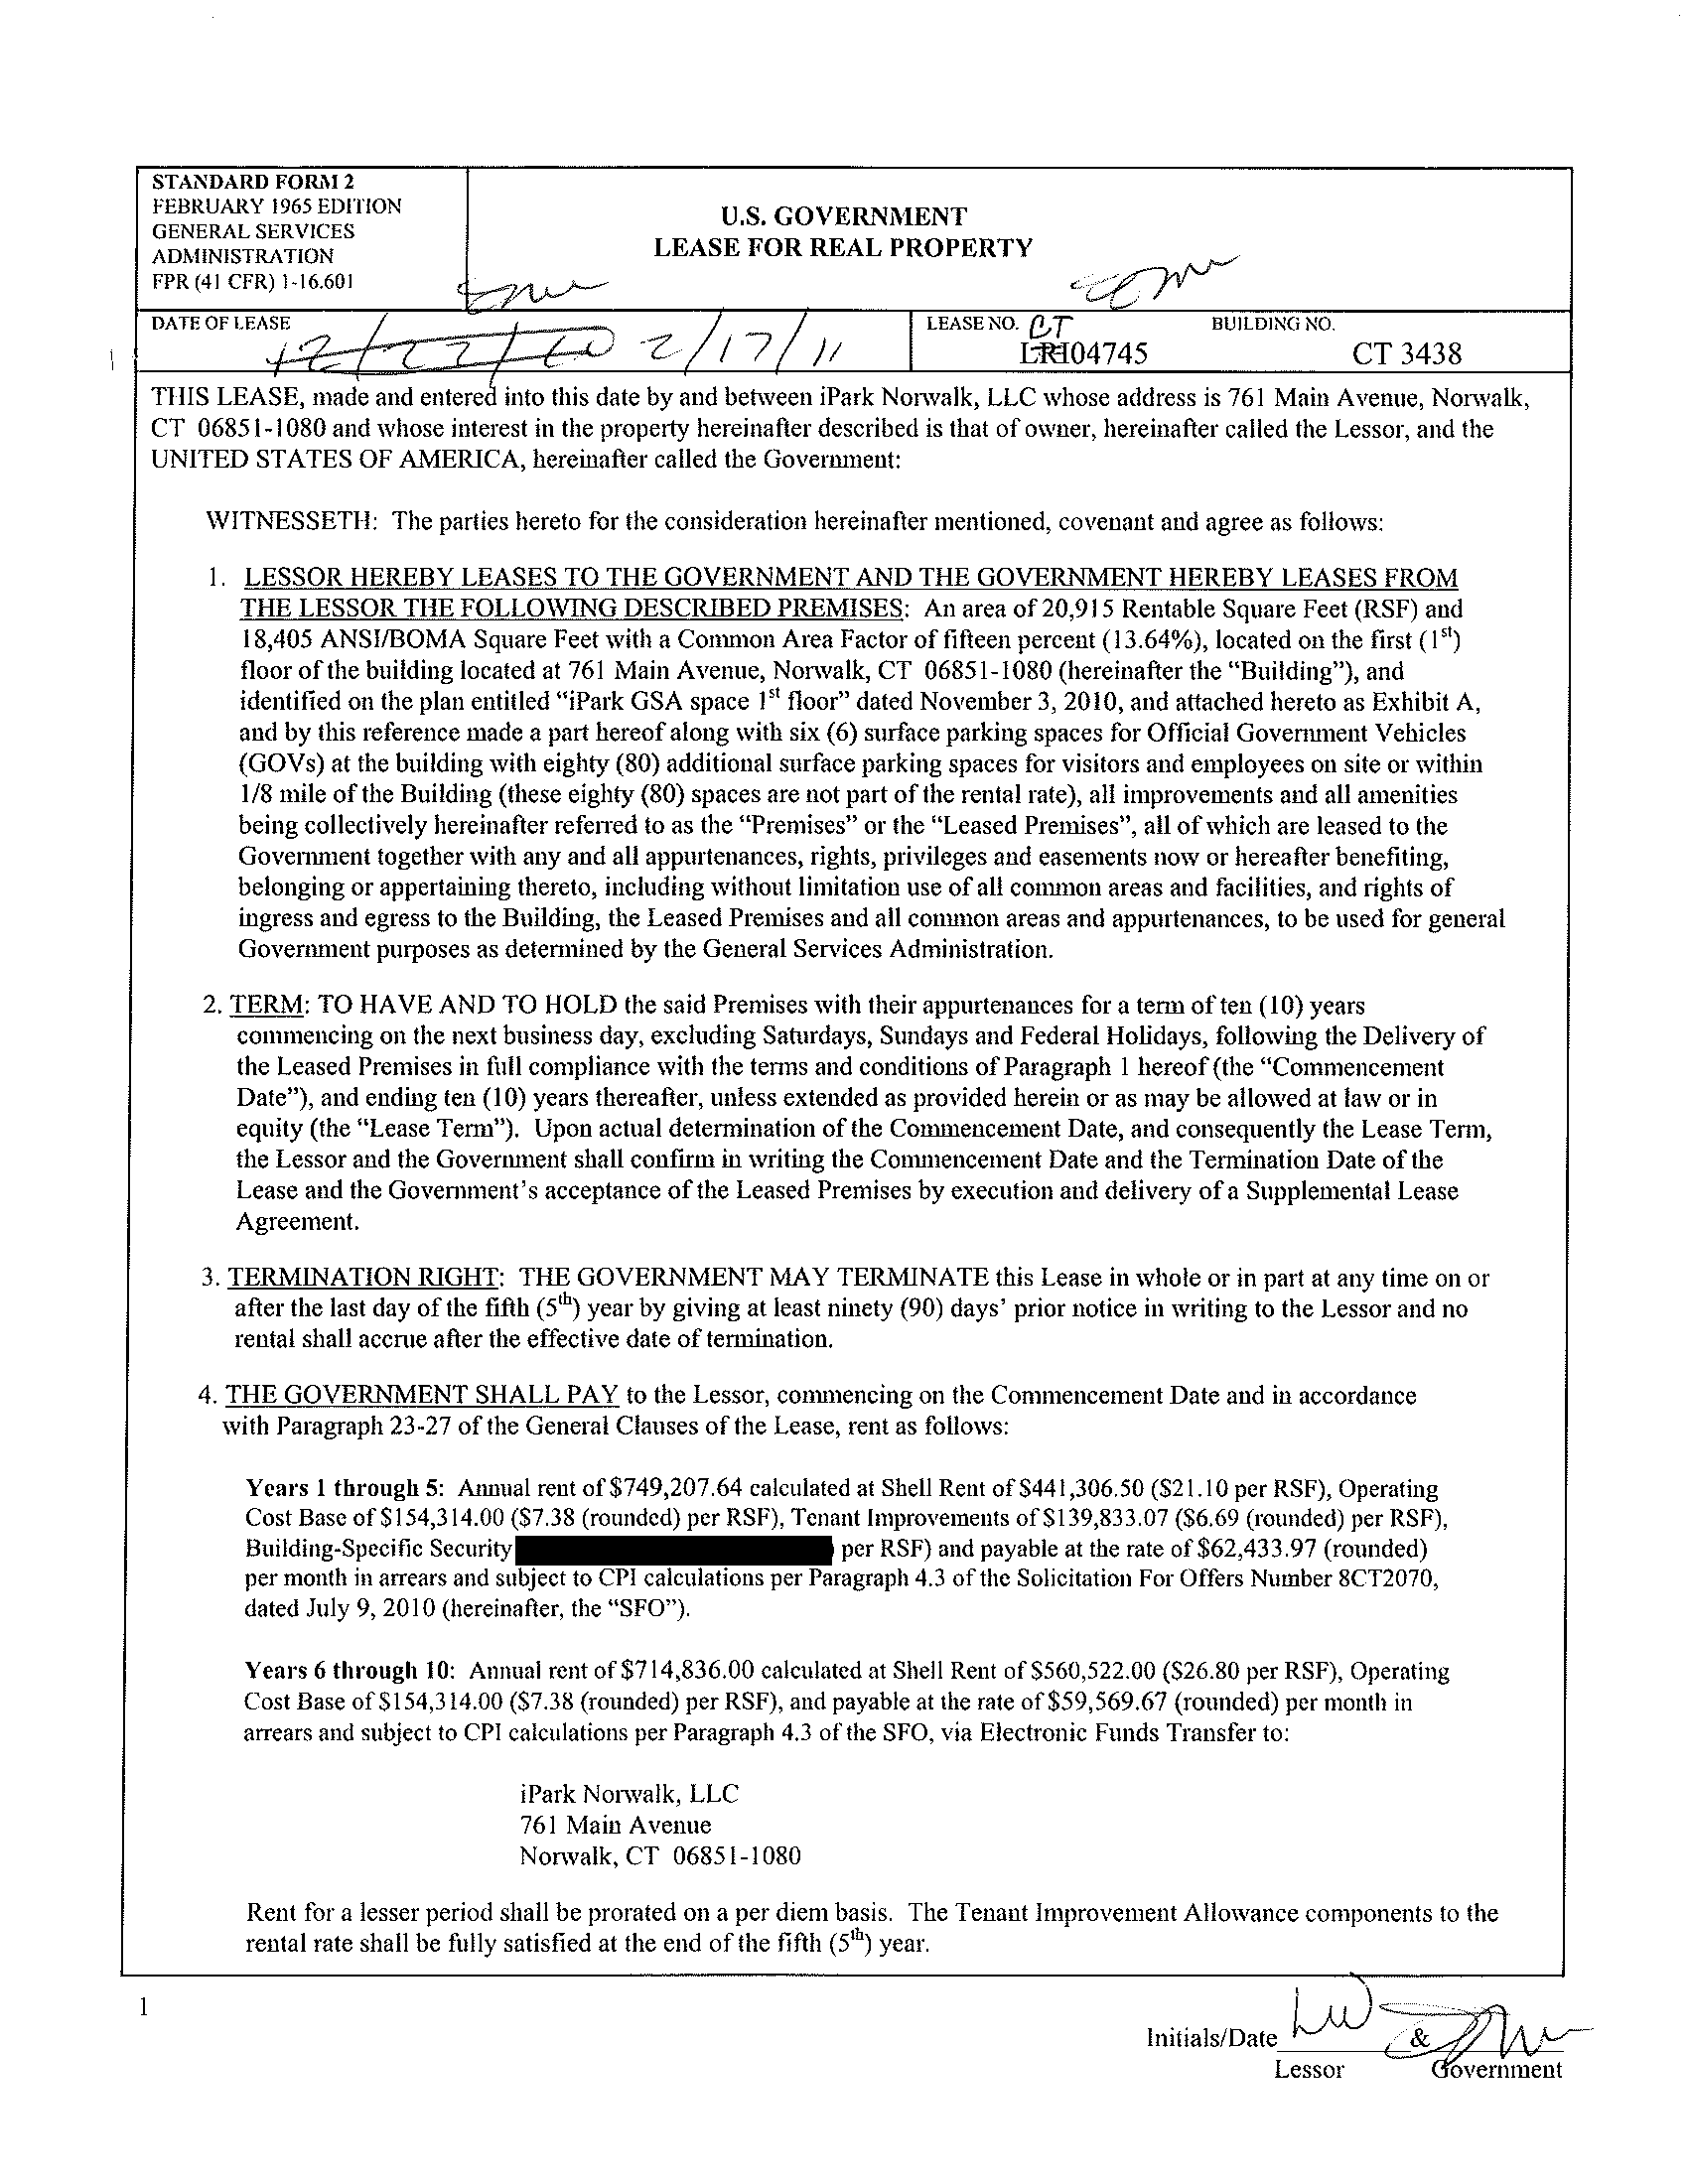handwritten: (1259, 1975, 1587, 2063), (633, 312, 872, 376), (1066, 243, 1255, 314), (472, 238, 622, 316)
